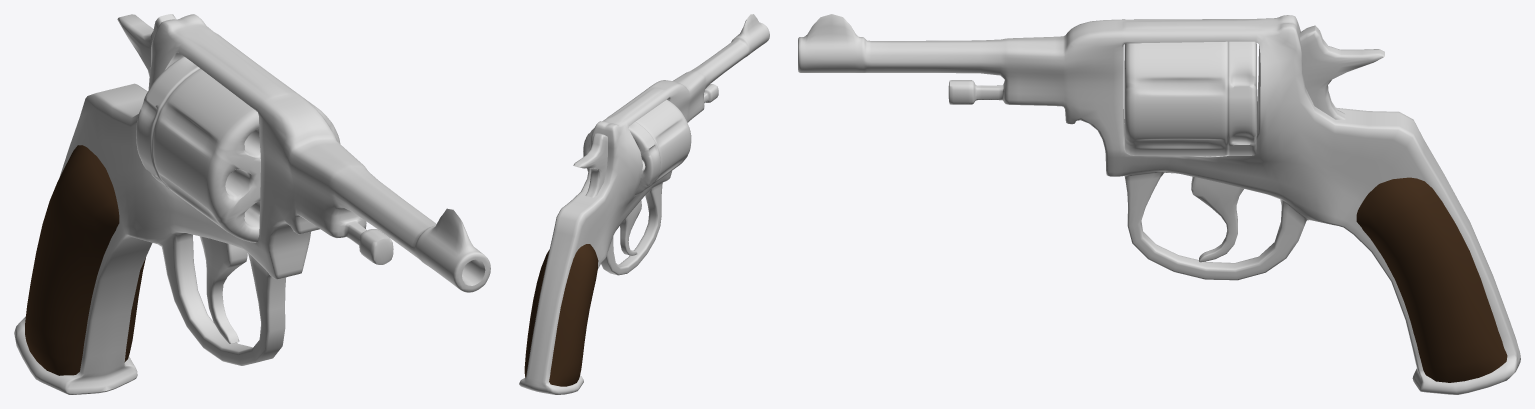
File: nagant.fbx
3 views of the same model, side by side, from view 1: azimuth 30°, elevation 25°; view 2: azimuth 150°, elevation 25°; view 3: azimuth 270°, elevation 25° (orthographic). The views are drawn at different scales.
Parts seen in each view (by area): view 1: Plane; view 2: Plane; view 3: Plane.
Boxes of the visible parts, x1,y1,x2,y2 form: Plane: (14,14,490,394); Plane: (519,14,769,394); Plane: (798,14,1520,394).
Size of the model in its own units: 23.58 by 74.12 by 133.
